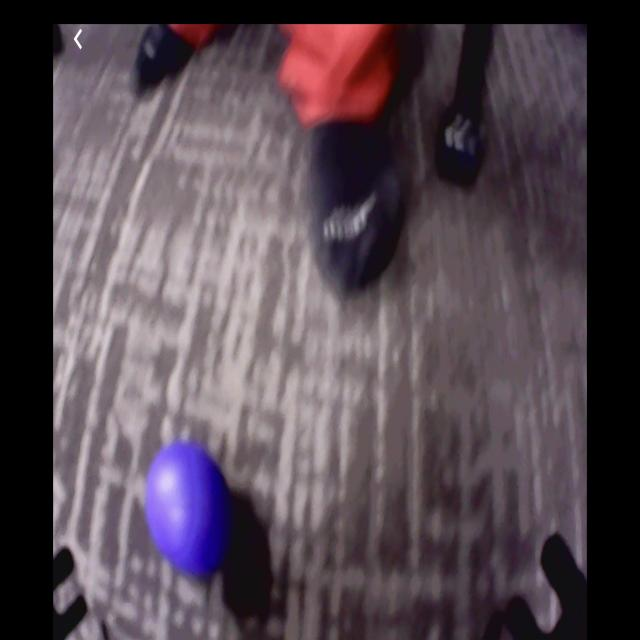ball: (146, 444, 234, 582)
